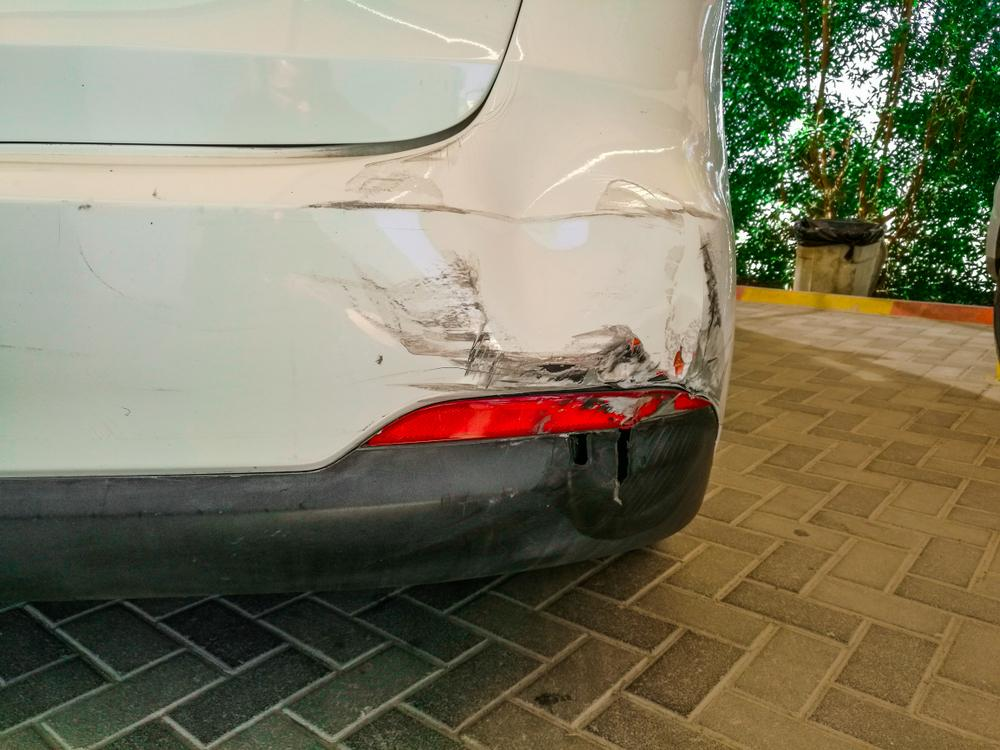crack: (616, 426, 631, 506)
dent: (487, 108, 591, 274)
scratch: (309, 225, 729, 403), (309, 127, 482, 214)
